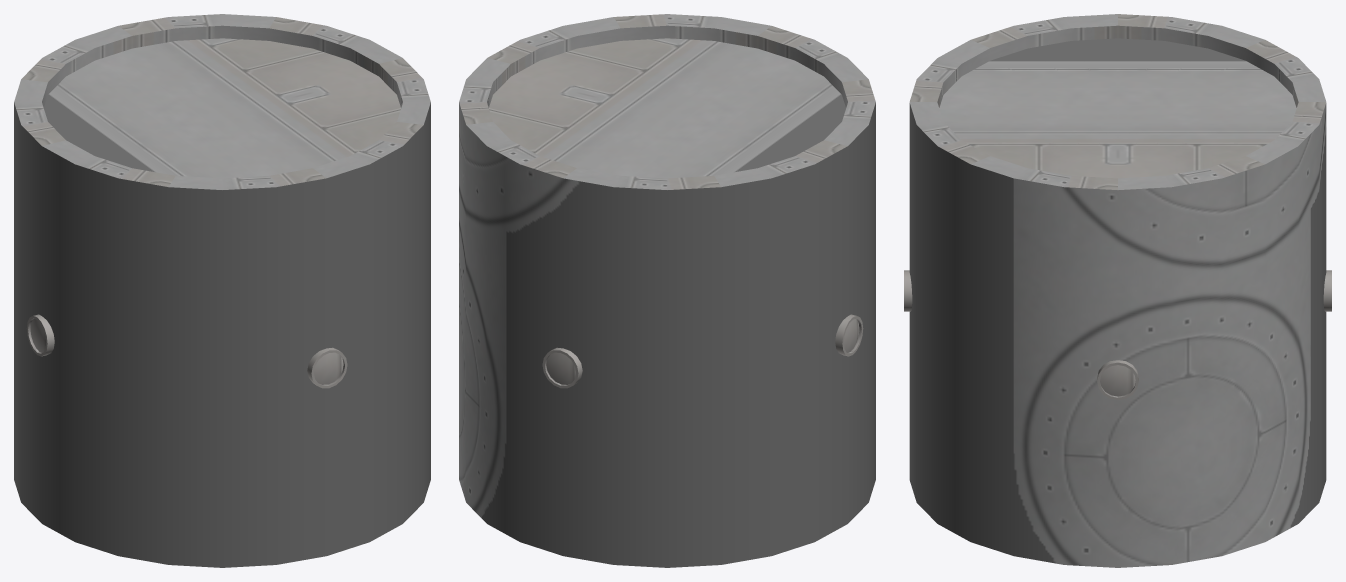
Rendered from vega_crew_s1p5_1_1.obj.
3 views of the same model, side by side, from view 1: azimuth 30°, elevation 25°; view 2: azimuth 150°, elevation 25°; view 3: azimuth 270°, elevation 25° (orthographic).
Visible parts, largest first — view 1: vega_crew_s1p5_1_1, vega_crew_s1p5_1_1_windows; view 2: vega_crew_s1p5_1_1, vega_crew_s1p5_1_1_windows; view 3: vega_crew_s1p5_1_1, vega_crew_s1p5_1_1_windows.
Part boxes in pixels (x1,y1,x2,y2): vega_crew_s1p5_1_1: (14, 14, 430, 567); vega_crew_s1p5_1_1_windows: (30, 319, 343, 384); vega_crew_s1p5_1_1: (459, 14, 875, 567); vega_crew_s1p5_1_1_windows: (546, 319, 859, 384); vega_crew_s1p5_1_1: (904, 14, 1331, 567); vega_crew_s1p5_1_1_windows: (1100, 365, 1135, 396).
Bounding box in the file's own units: 1.92 × 1.88 × 1.92.
